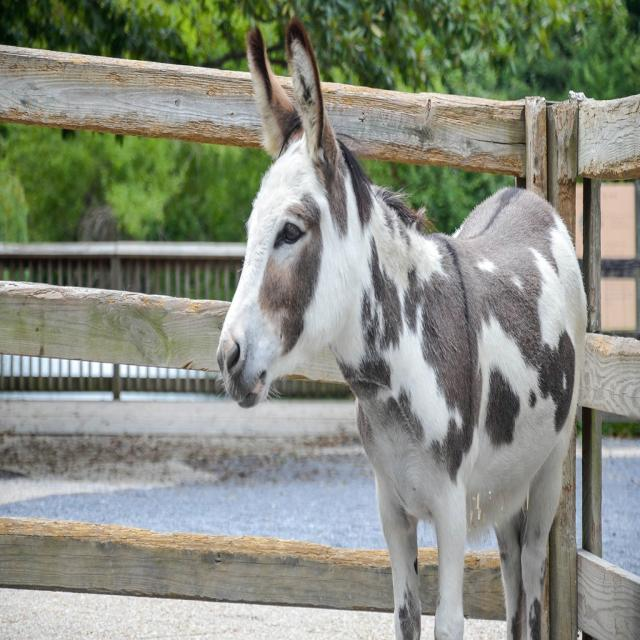donkey: (216, 19, 586, 639)
